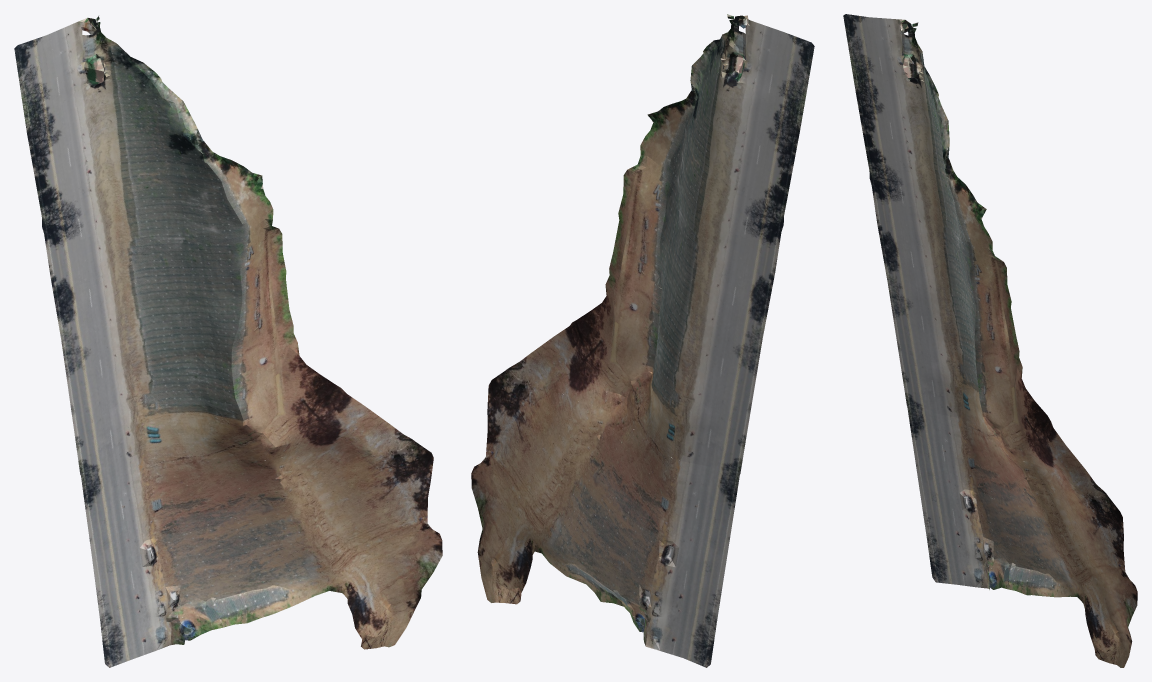
File: superficie_t16.glb
3 renders of one model, left to right at view 1: azimuth 30°, elevation 25°; view 2: azimuth 150°, elevation 25°; view 3: azimuth 330°, elevation 25°, orthographic. The views are drawn at different scales.
Visible parts, largest first — view 1: Bloco 1; view 2: Bloco 1; view 3: Bloco 1.
Boxes of the visible parts, left/top/right/bottom form: Bloco 1: left=14, top=16, right=442, bottom=667; Bloco 1: left=471, top=14, right=814, bottom=667; Bloco 1: left=843, top=14, right=1137, bottom=667.
Bounding box in the file's own units: 88.7 × 149 × 20.94.
Materials: 1 (1 with a texture image).
